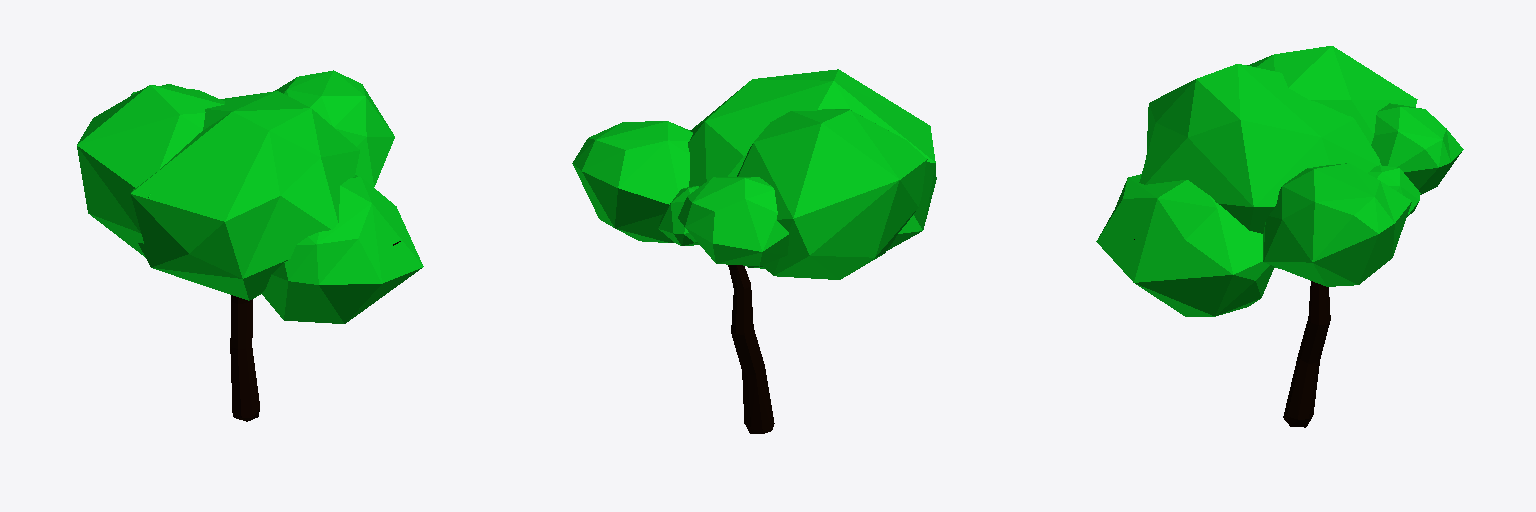
The model's file is tree1.obj.
3 renders of one model, left to right at view 1: azimuth 30°, elevation 25°; view 2: azimuth 150°, elevation 25°; view 3: azimuth 270°, elevation 25°, orthographic.
Parts seen in each view (by area): view 1: Icosphere.005, Icosphere.004, Icosphere.003, Icosphere.001, Cube; view 2: Icosphere.003, Icosphere.005, Icosphere.001, Icosphere, Cube, Icosphere.002; view 3: Icosphere.005, Icosphere.004, Icosphere.001, Icosphere.003, Icosphere, Cube, Icosphere.002.
Boxes of the visible parts, x1=… form: Icosphere.005: x1=131, y1=91, x2=359, y2=300; Icosphere.004: x1=262, y1=177, x2=423, y2=323; Icosphere.003: x1=77, y1=85, x2=224, y2=257; Icosphere.001: x1=275, y1=70, x2=394, y2=186; Cube: x1=230, y1=241, x2=400, y2=421; Icosphere.003: x1=737, y1=109, x2=932, y2=279; Icosphere.005: x1=688, y1=69, x2=936, y2=268; Icosphere.001: x1=572, y1=121, x2=692, y2=242; Icosphere: x1=678, y1=177, x2=789, y2=266; Cube: x1=728, y1=265, x2=774, y2=433; Icosphere.002: x1=658, y1=186, x2=699, y2=245; Icosphere.005: x1=1139, y1=64, x2=1380, y2=268; Icosphere.004: x1=1096, y1=174, x2=1274, y2=316; Icosphere.001: x1=1263, y1=163, x2=1411, y2=286; Icosphere.003: x1=1247, y1=46, x2=1417, y2=143; Icosphere: x1=1371, y1=103, x2=1463, y2=194; Cube: x1=1134, y1=239, x2=1330, y2=427; Icosphere.002: x1=1368, y1=165, x2=1420, y2=216.
Size of the model in its own units: 26.23 by 27.65 by 26.83.